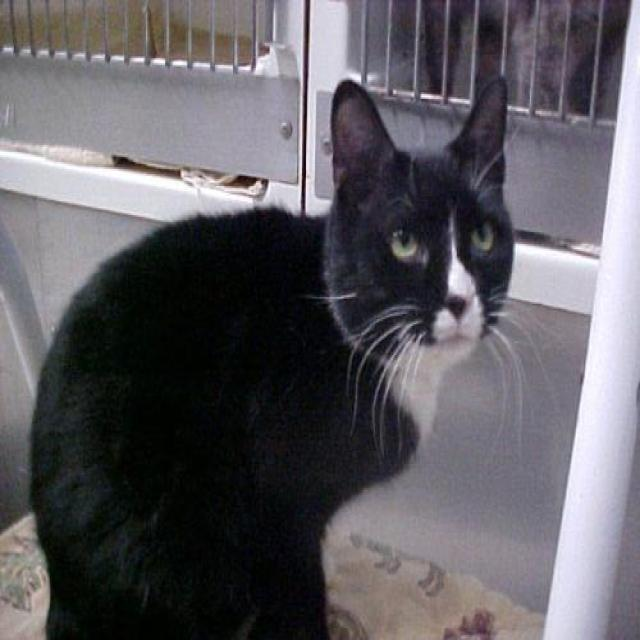Cats: (27, 74, 550, 638)
